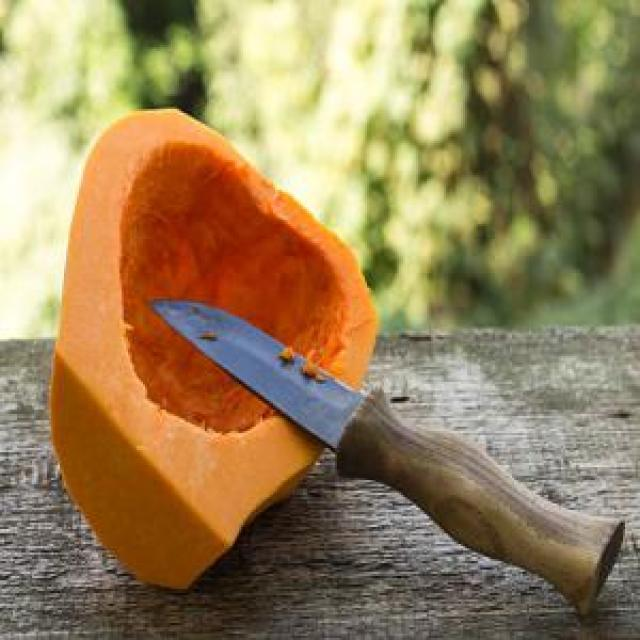knife: (139, 294, 622, 628)
